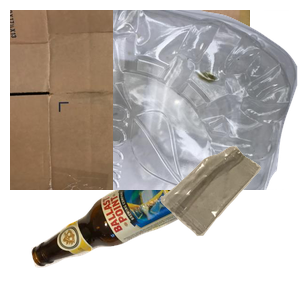cardboard: (10, 10, 250, 190)
glass: (29, 150, 238, 300)
plastic: (113, 10, 300, 190)
trash: (158, 144, 300, 300)
